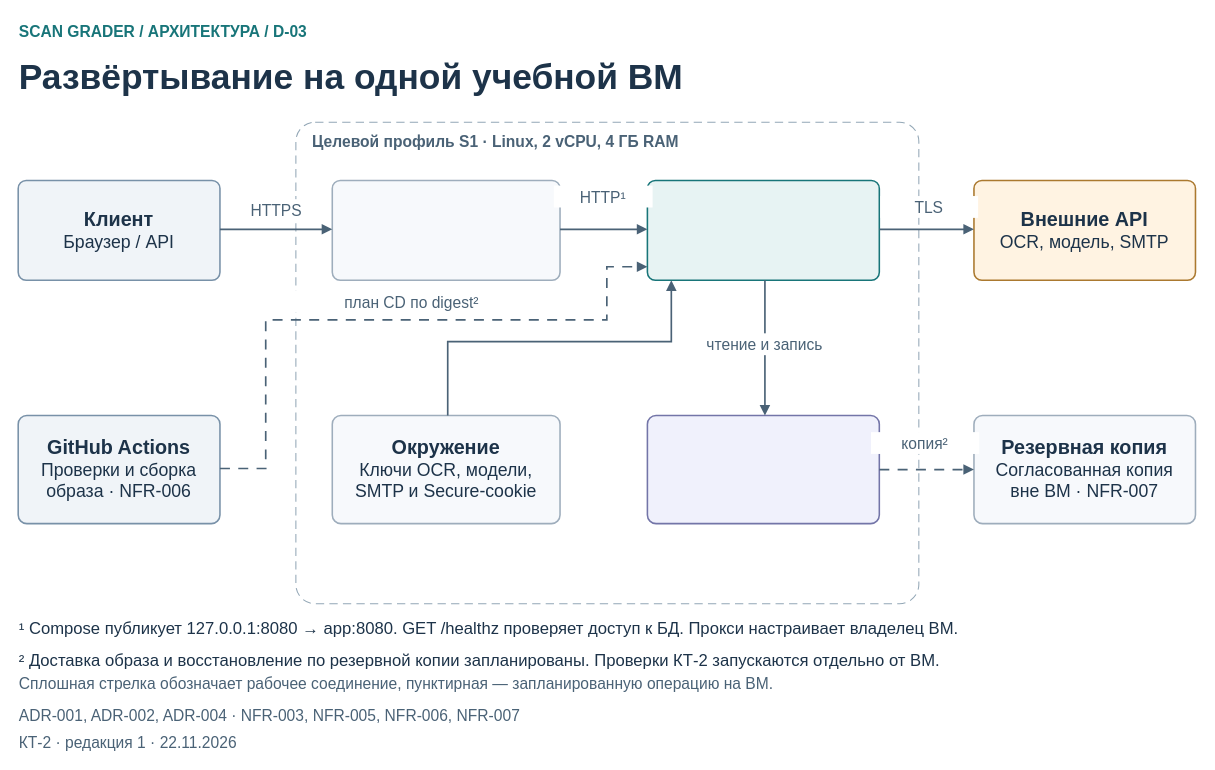
Image size: 1215x770. Some labels were removed from this diagram. The centre of each missing label's shape, as x and y in pixels:
".env / env_file" goes at (557,324).
"HTTPS-прокси Настраивается на ВМ" goes at (445,230).
"Контейнер app Go + React + Ghostscript" goes at (763,230).
"Том classroom /data · SQLite, файлы, локальная почта" goes at (763,469).
